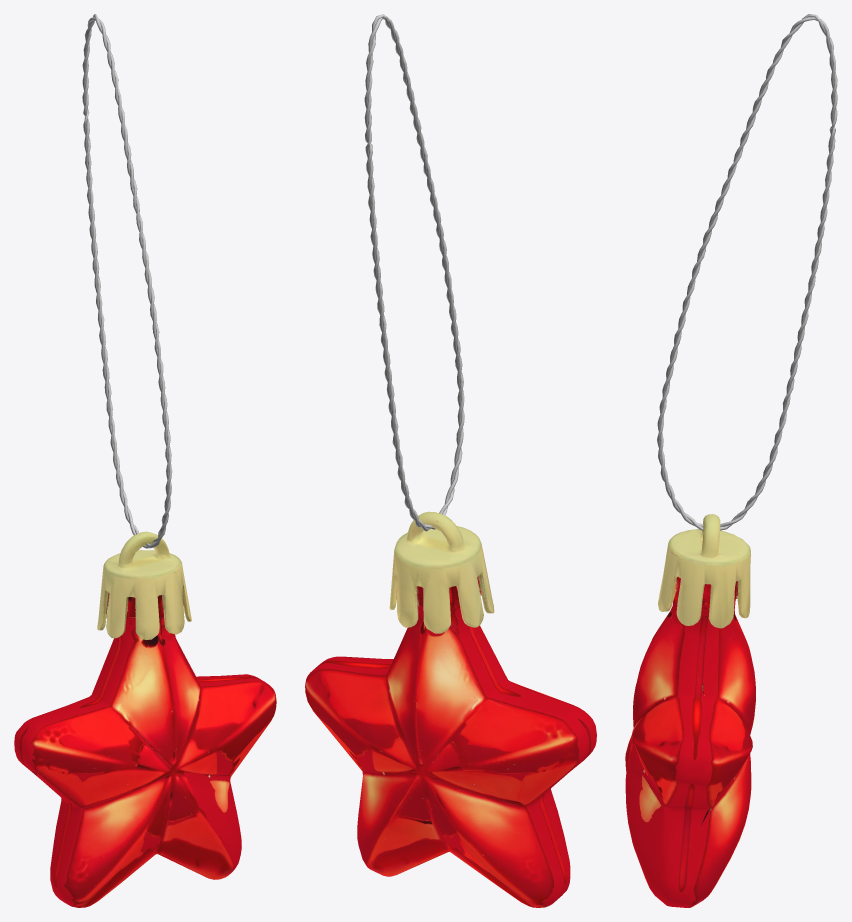
File: Red_Star.glb
3 renders of one model, left to right at view 1: azimuth 30°, elevation 25°; view 2: azimuth 150°, elevation 25°; view 3: azimuth 270°, elevation 25°, orthographic. The views are drawn at different scales.
Visible parts, largest first — view 1: Mesh1.0, GN Instance; view 2: Mesh1.0, GN Instance; view 3: Mesh1.0, GN Instance.
Boxes of the visible parts, box(x1,y1,x2,y2) form: Mesh1.0: box(14, 531, 276, 907); GN Instance: box(82, 14, 172, 548); Mesh1.0: box(305, 511, 596, 907); GN Instance: box(364, 14, 464, 531); Mesh1.0: box(625, 514, 755, 907); GN Instance: box(657, 14, 837, 530).
Bounding box in the file's own units: 0.0378 × 0.1196 × 0.0267.
Materials: 2 (1 with a texture image).
